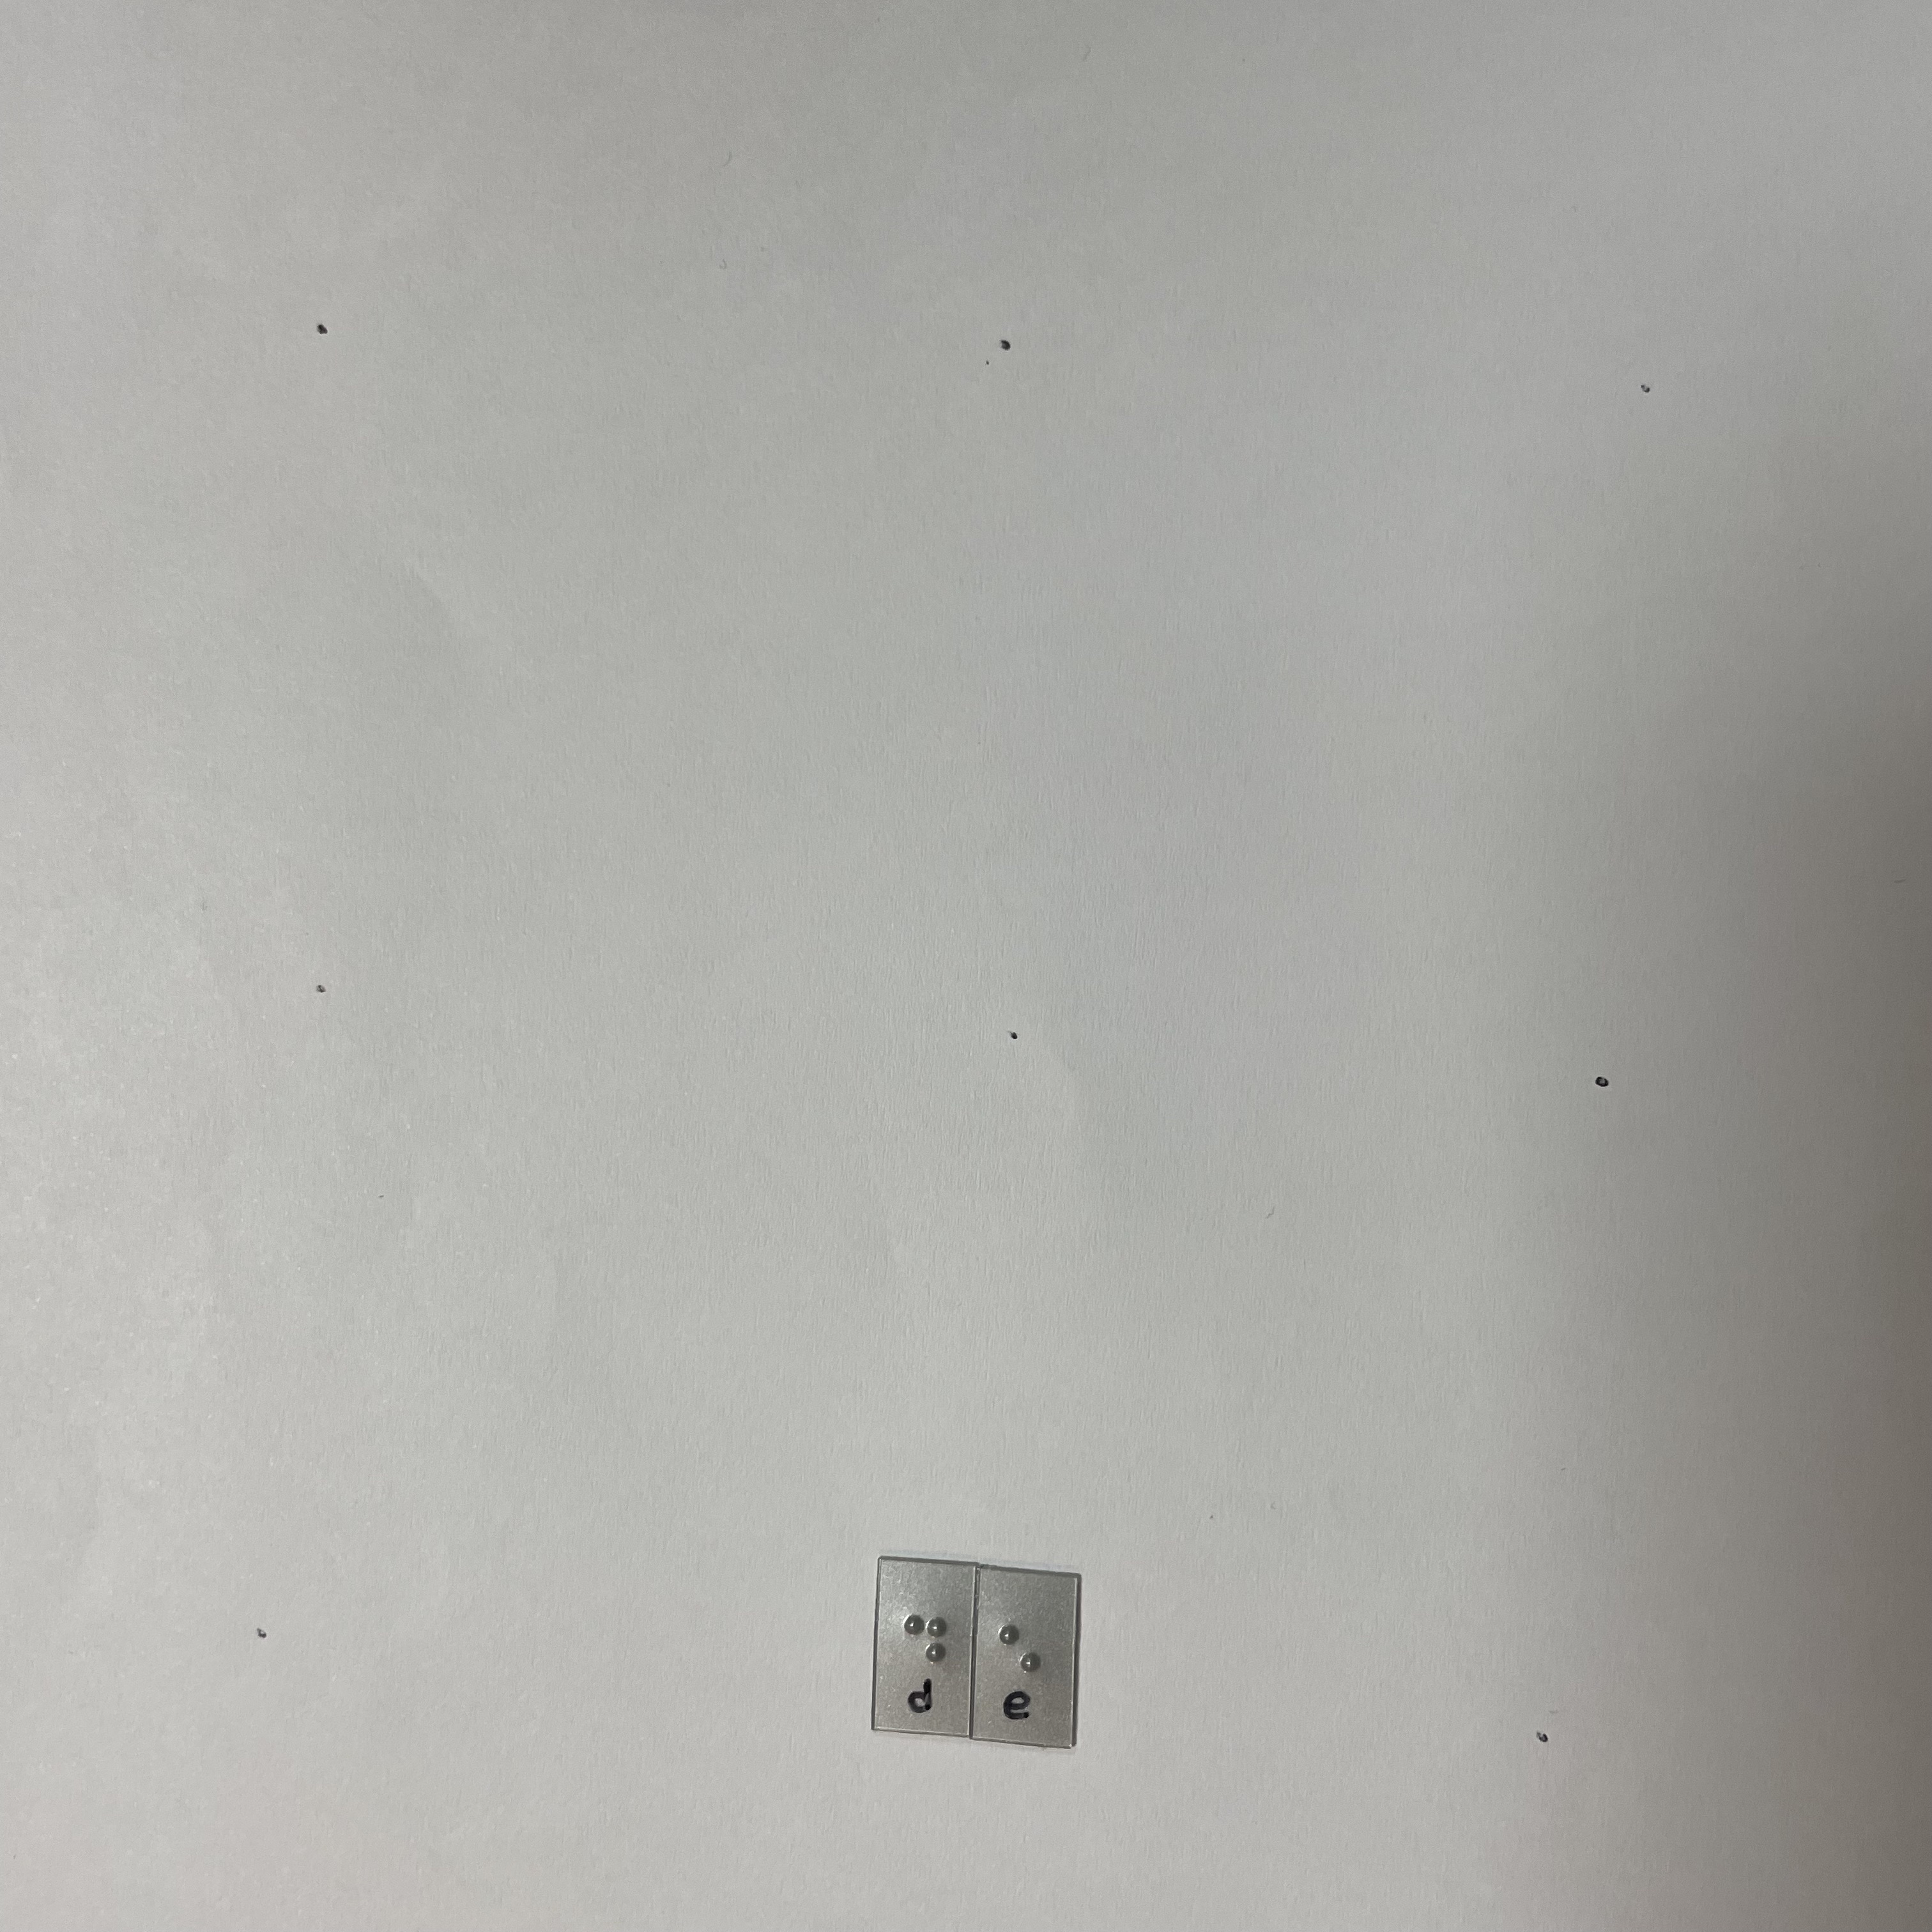d: (901, 1605, 954, 1694)
e: (994, 1614, 1048, 1701)
